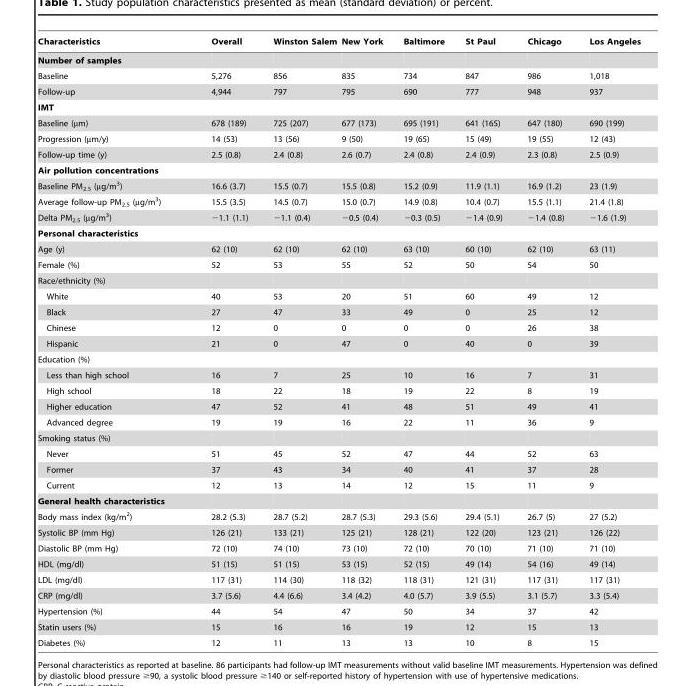table: (37, 36, 640, 647)
table column: (37, 36, 187, 647), (259, 36, 338, 647), (187, 36, 259, 647), (576, 36, 640, 647), (392, 36, 454, 647), (514, 36, 576, 647), (454, 36, 514, 647), (338, 36, 392, 647)
table column header: (37, 36, 640, 50)
table projected row header: (37, 50, 640, 67), (37, 225, 640, 241), (37, 272, 640, 288), (37, 351, 640, 367), (37, 99, 640, 114), (37, 162, 640, 177), (37, 430, 640, 445), (37, 493, 640, 508)
table row: (37, 50, 640, 67), (37, 67, 640, 83), (37, 83, 640, 99), (37, 114, 640, 130), (37, 130, 640, 146), (37, 146, 640, 162), (37, 177, 640, 193), (37, 193, 640, 209), (37, 209, 640, 225), (37, 225, 640, 241), (37, 256, 640, 272), (37, 272, 640, 288), (37, 288, 640, 304), (37, 319, 640, 335), (37, 335, 640, 351), (37, 351, 640, 367), (37, 382, 640, 398), (37, 398, 640, 414), (37, 414, 640, 430), (37, 445, 640, 461), (37, 461, 640, 477), (37, 477, 640, 493), (37, 508, 640, 524), (37, 524, 640, 540), (37, 540, 640, 556), (37, 571, 640, 587), (37, 587, 640, 603), (37, 603, 640, 619), (37, 99, 640, 114), (37, 162, 640, 177), (37, 241, 640, 256), (37, 304, 640, 319), (37, 367, 640, 382), (37, 430, 640, 445), (37, 493, 640, 508), (37, 556, 640, 571), (37, 619, 640, 634), (37, 36, 640, 50), (37, 634, 640, 647)
